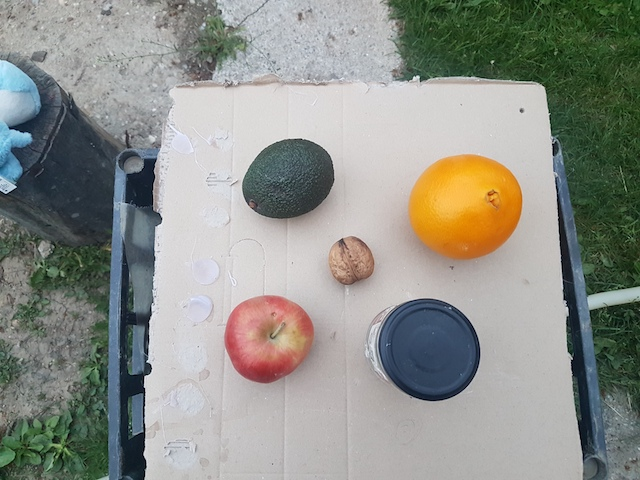apple: (223, 294, 314, 384)
avocado: (238, 134, 341, 219)
nut: (326, 235, 375, 284)
orange: (409, 155, 522, 259)
recipient: (378, 296, 478, 401)
